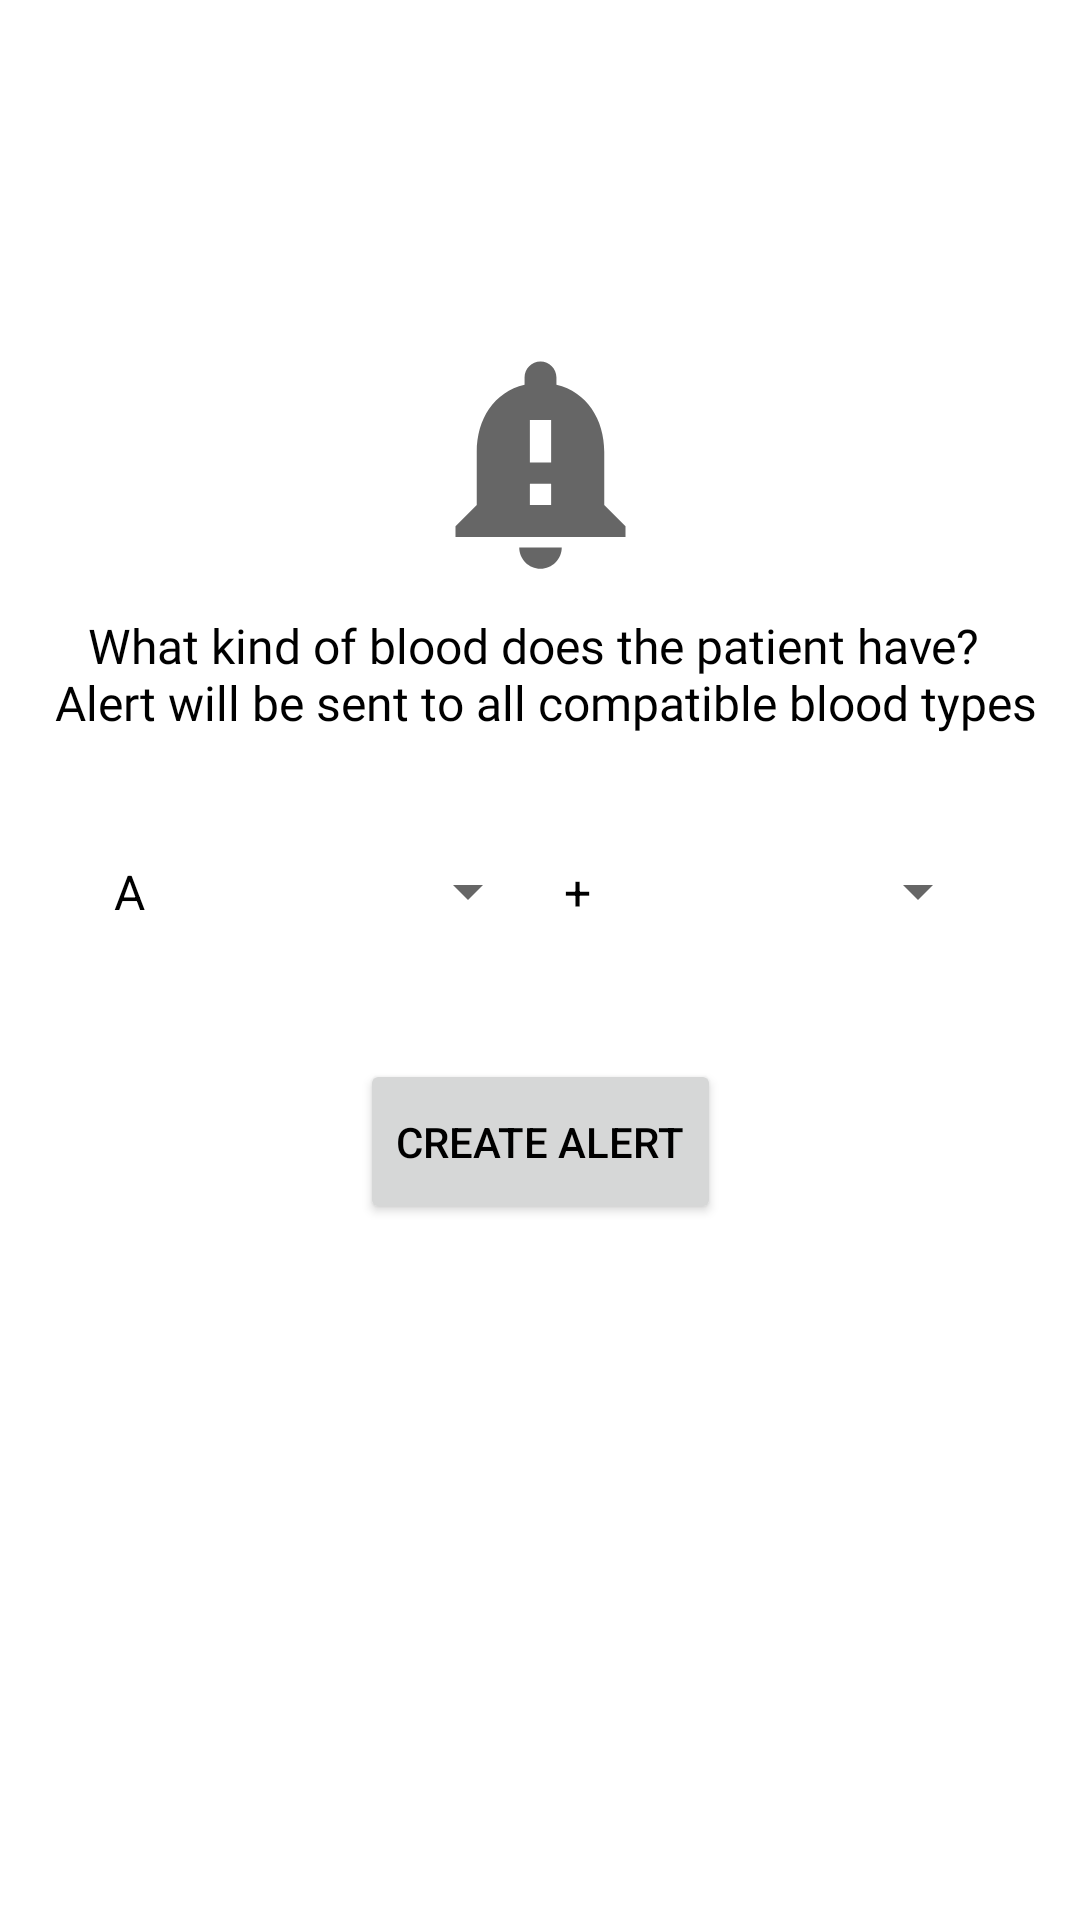

Point at icon controls on the screen. Image size 1080×1920, points as (x=x, y=y).
notification important: (x=540, y=465)
